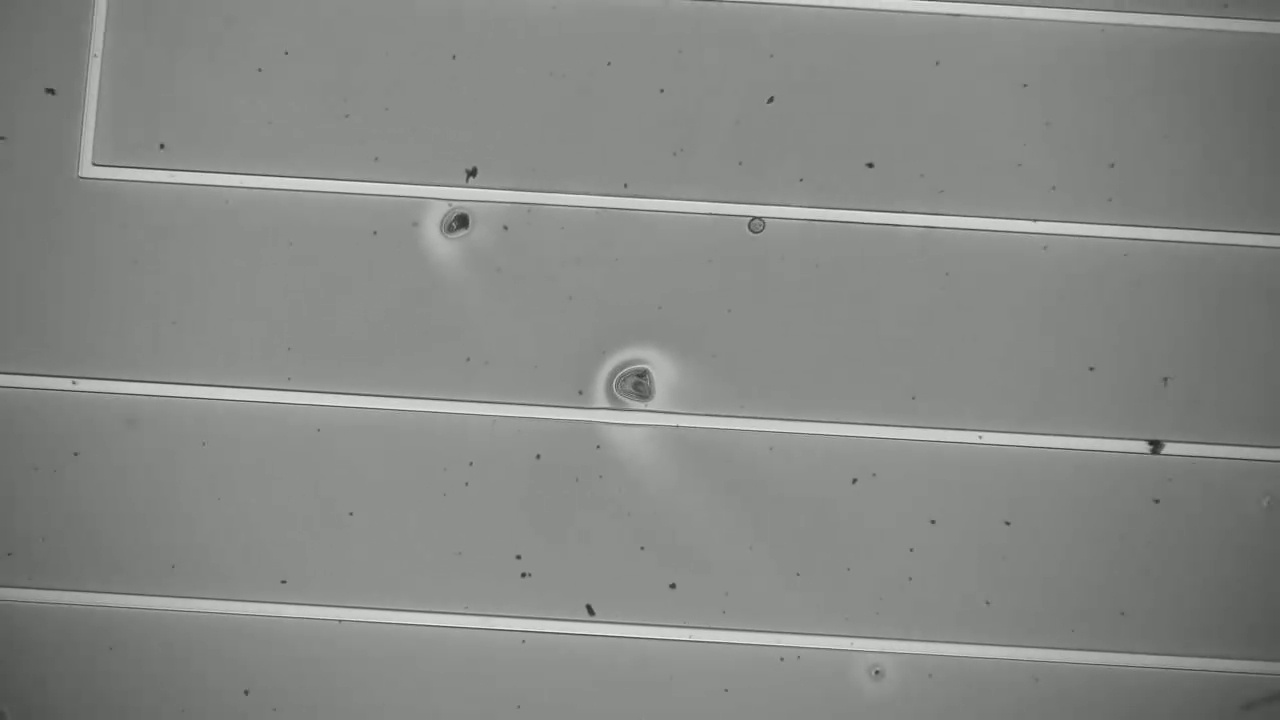stains_enbedded: (1139, 432, 1172, 467)
